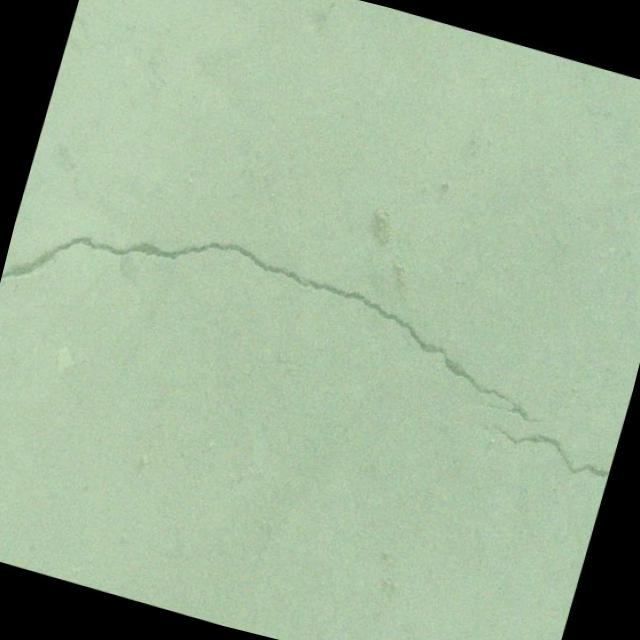crack: (0, 180, 579, 449), (480, 418, 615, 484)
